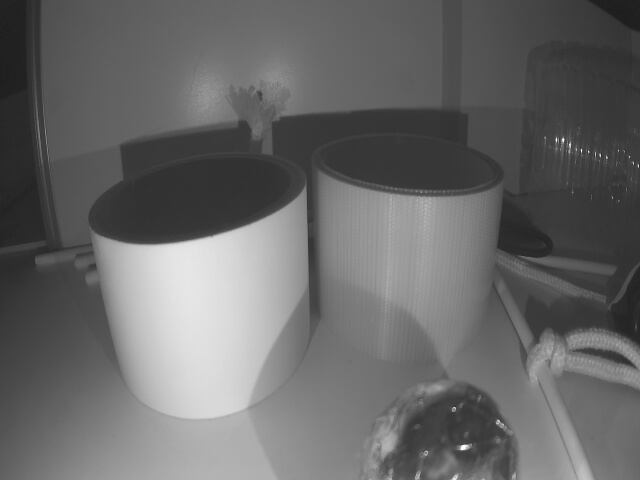Live: (361, 377, 520, 480)
